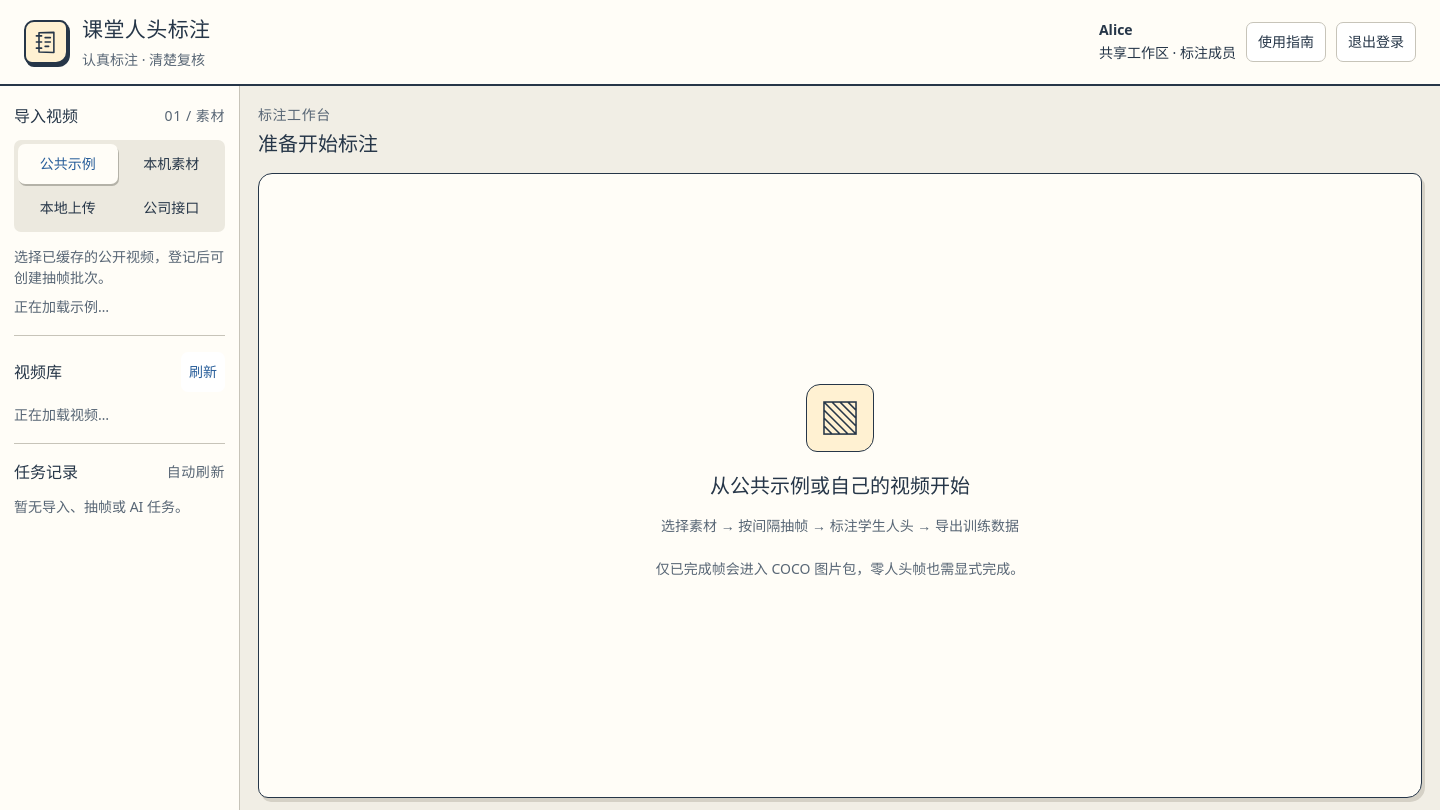
Test: unmounts the old workspace on logout and does not display a late private video response
The width and height of the screenshot is (1440, 810).
Expected: the text "Alice" is shown, [1099,20,1133,39]
Click the button "退出登录".
click(1376, 42)  # box [1336,22,1416,62]
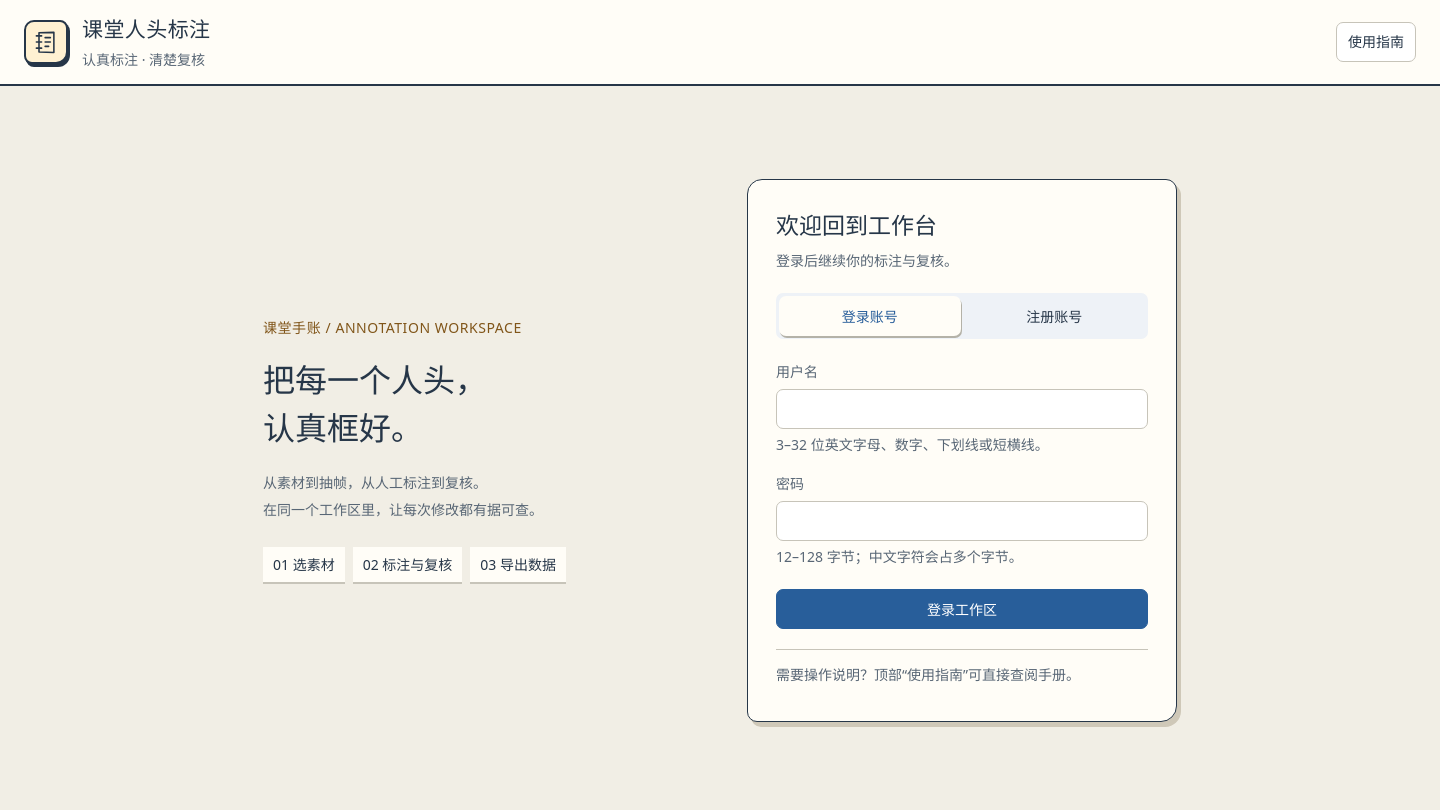
Expected: the button "登录工作区" is shown, [776,589,1148,629]
